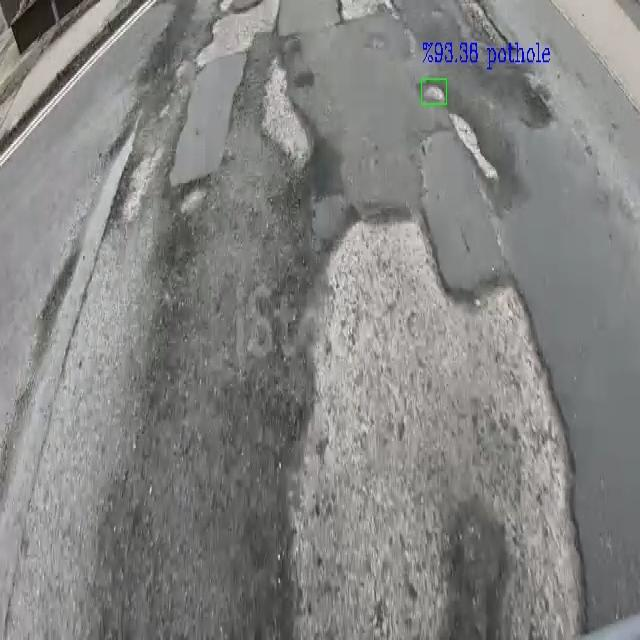pothole: (422, 79, 446, 101)
